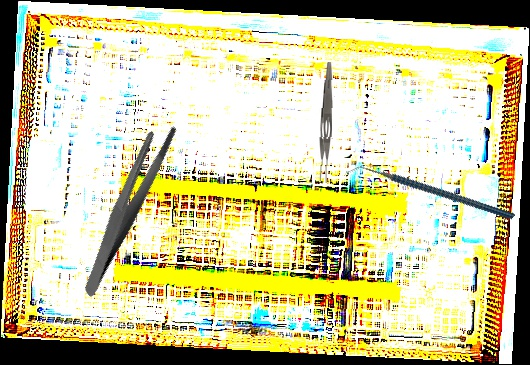Chopper: (345, 117, 516, 270)
Dressing Forceps: (43, 116, 211, 299), (316, 61, 335, 184)
